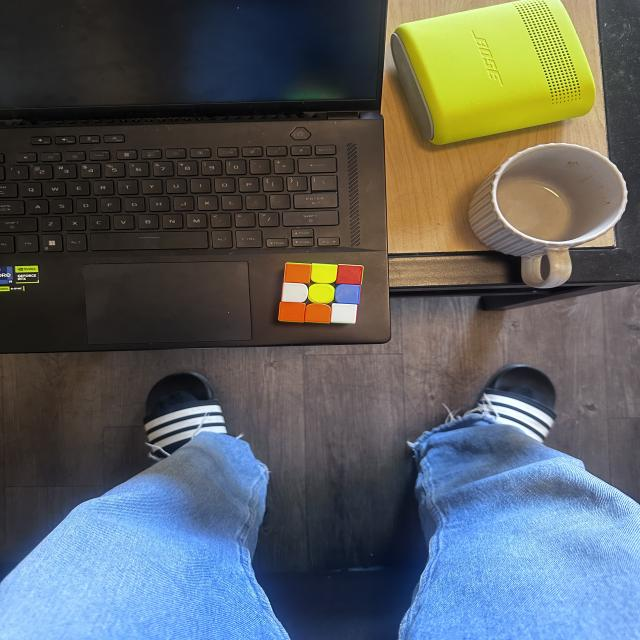sticker: (280, 281, 310, 304), (278, 300, 307, 323), (329, 302, 359, 324), (307, 283, 336, 305), (284, 262, 312, 284), (304, 302, 332, 324), (335, 264, 364, 285), (310, 263, 338, 284), (334, 284, 361, 305)
